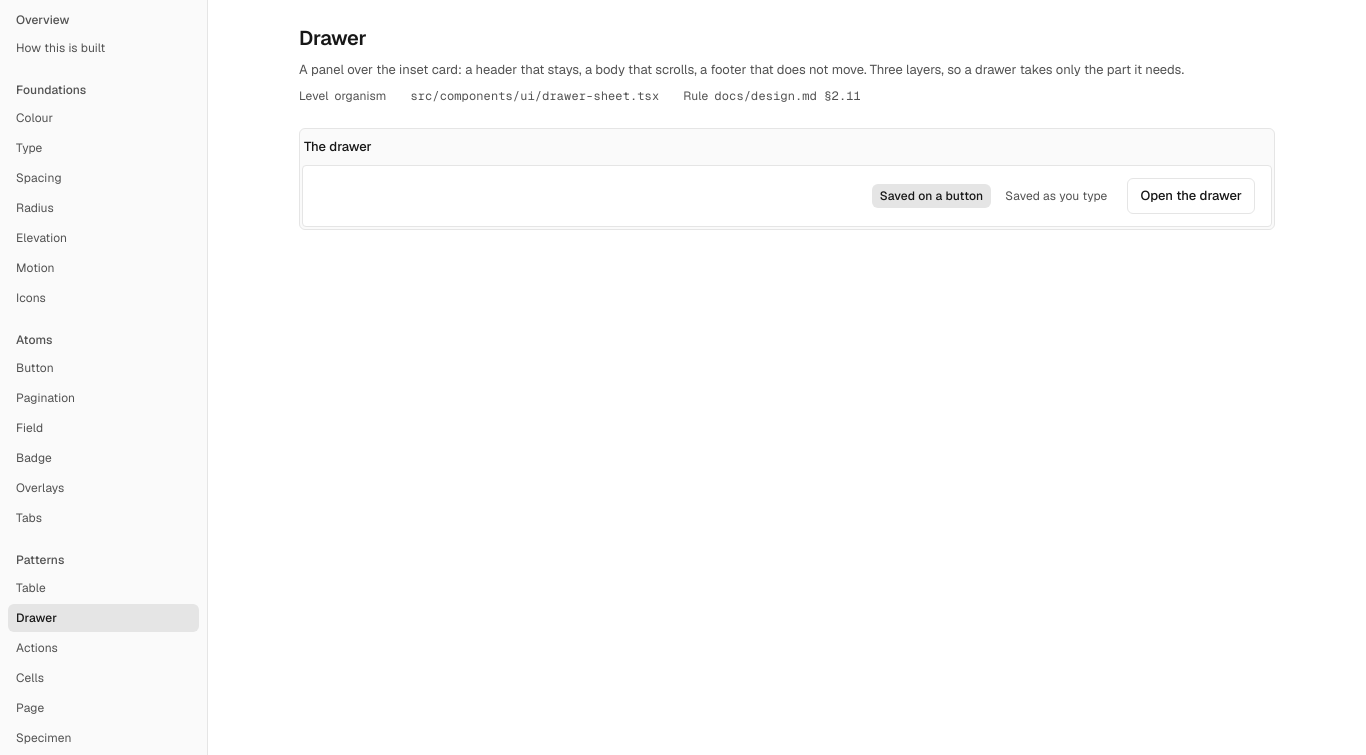
the drawer specimen › enables Save only once something has changed
The width and height of the screenshot is (1366, 755).
Click the button "Open the drawer". click: (1191, 196)
box: [1127,178,1255,214]
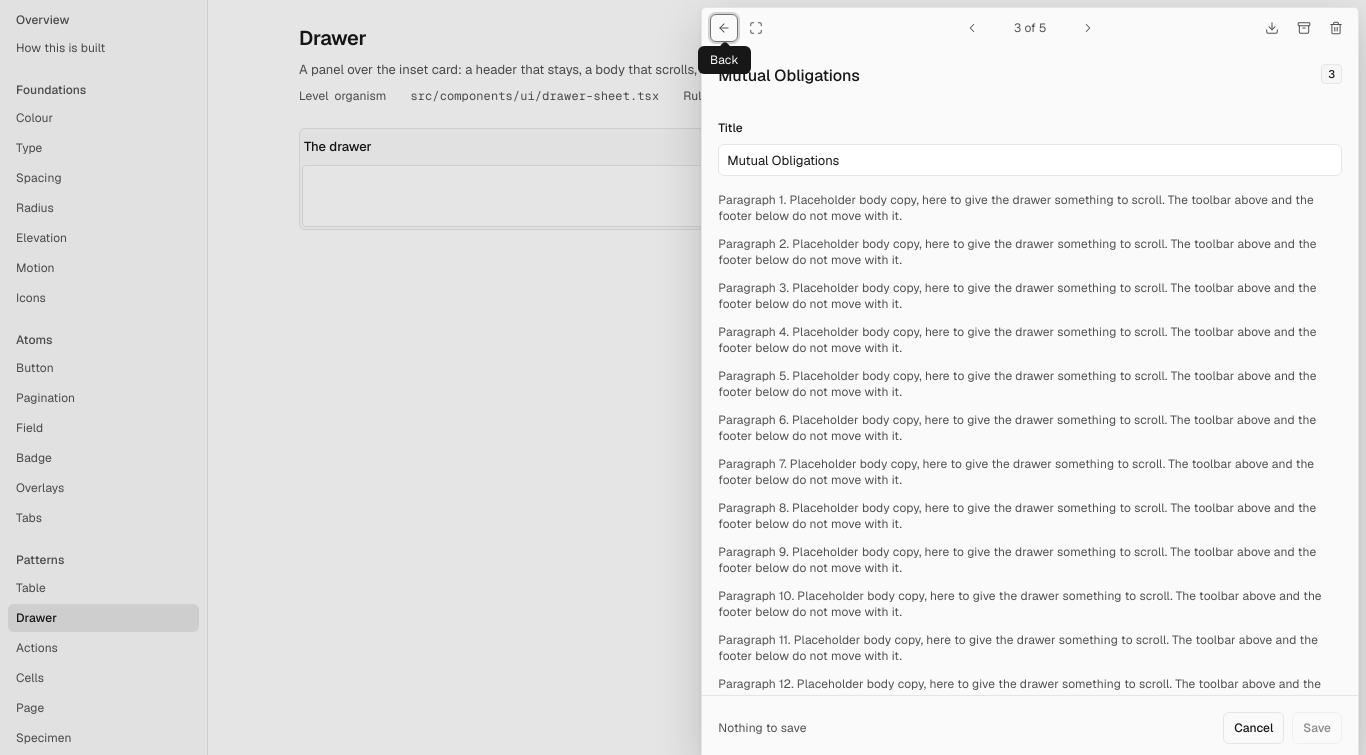
Expected: the button "Save" is disabled, [1292,712,1342,744]
Type "!" into the field labelled "Title". click: (1030, 160)
box: [718,144,1342,176]
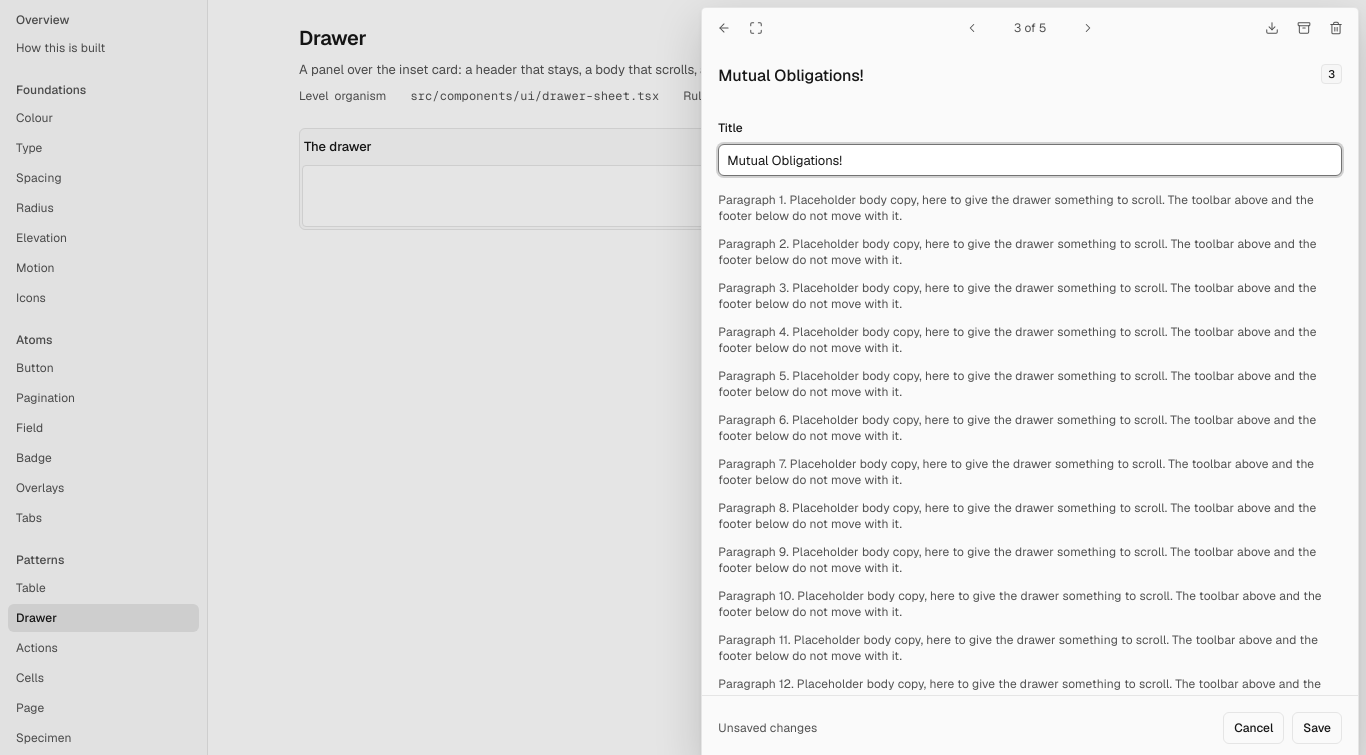
Expected: the button "Save" is enabled, [1292,712,1342,744]
